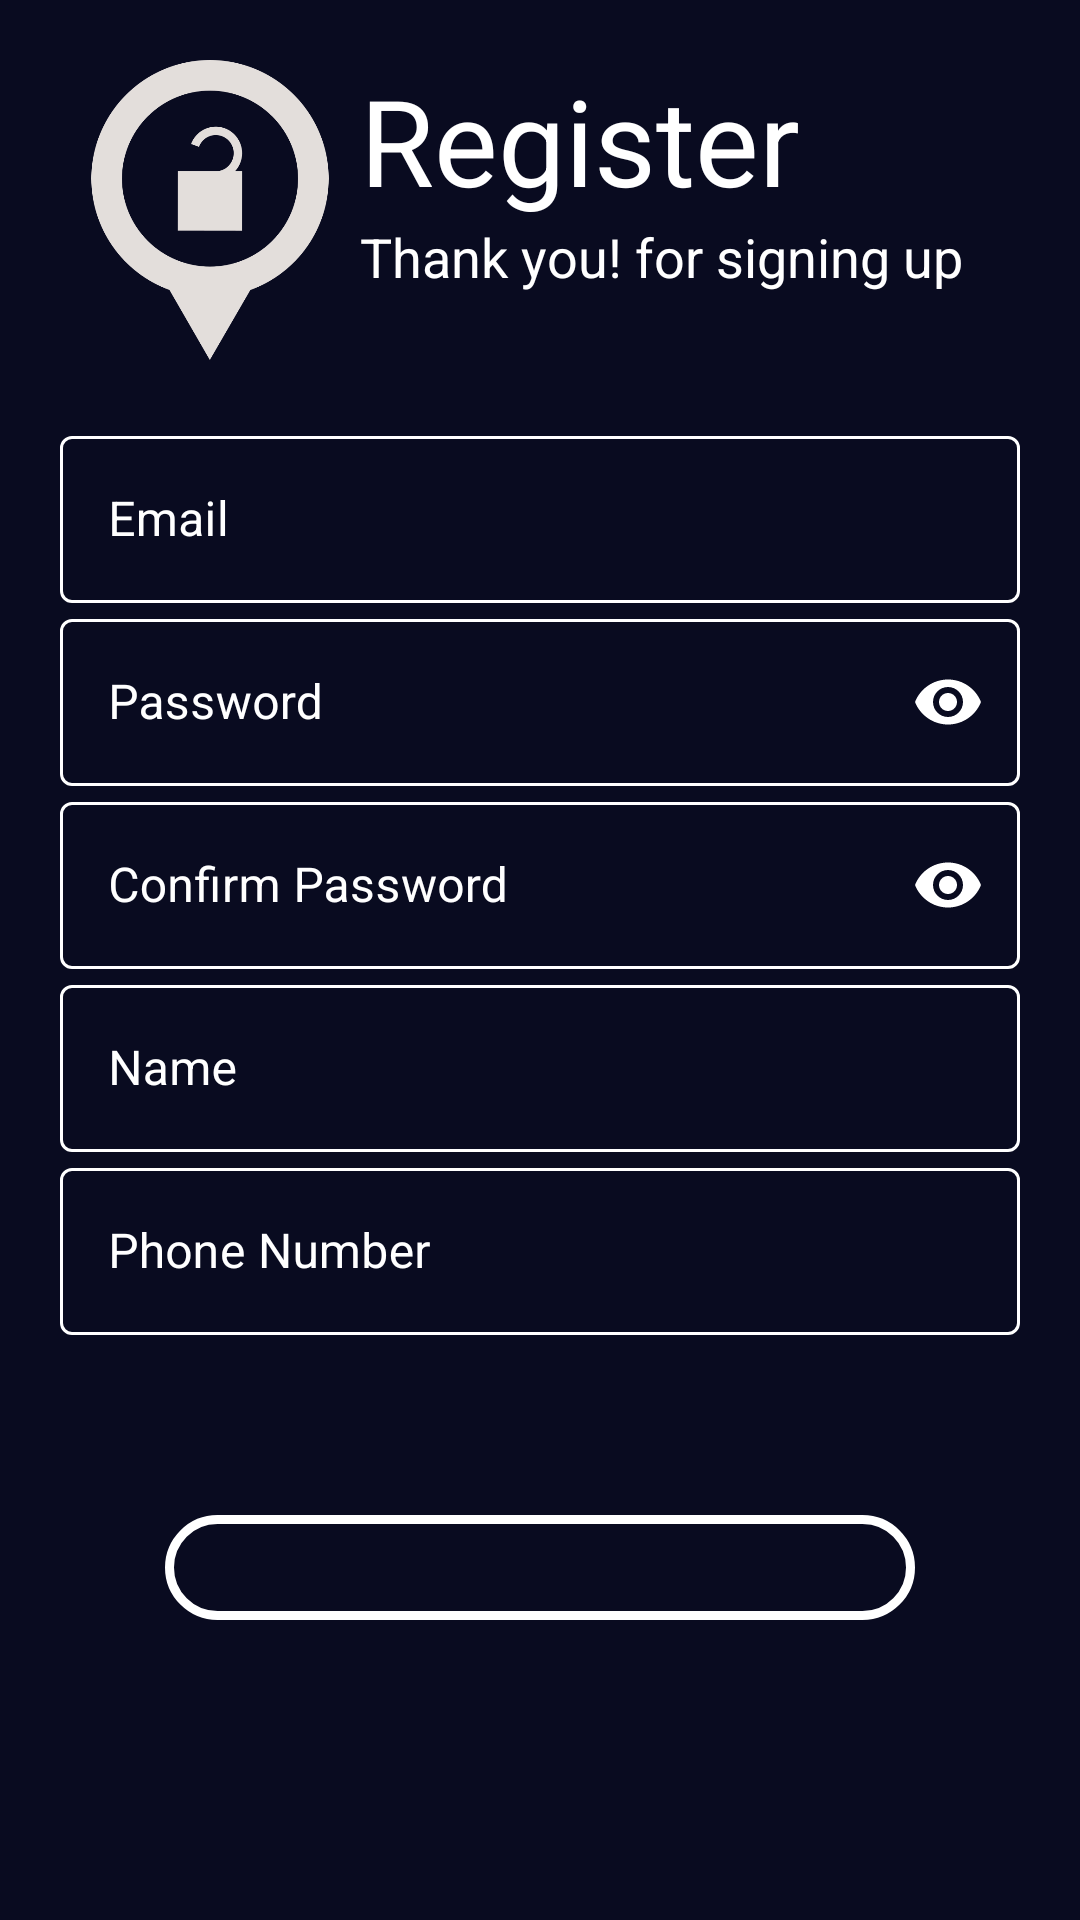

Icon bounding boxes for this 1080*1920 phone screenshot, format {"left": x1, "top": y1, "right": x2, "bottom": y2}:
allow access: {"left": 91, "top": 60, "right": 329, "bottom": 360}
